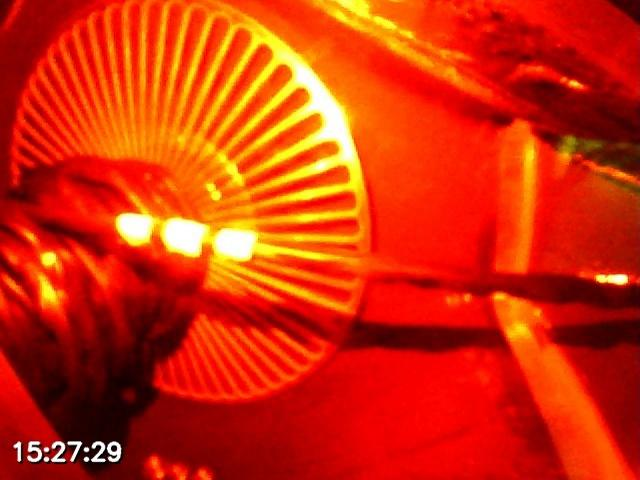white-dots: (114, 212, 258, 261)
